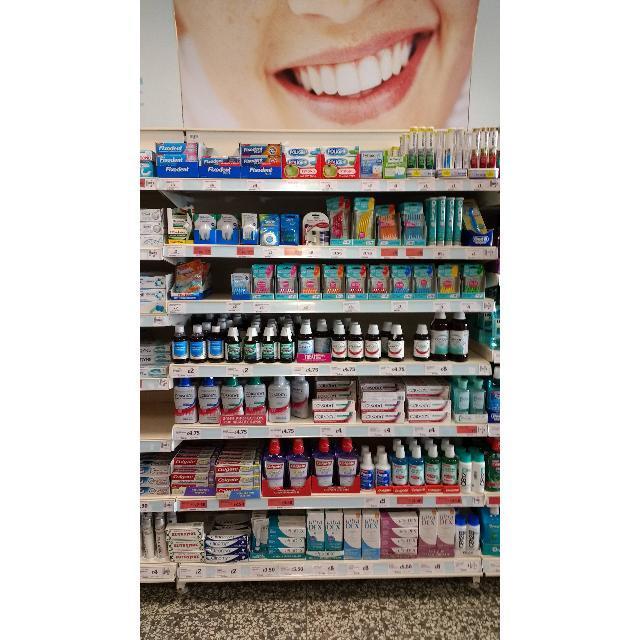empty: (142, 390, 172, 440), (210, 258, 230, 298)
